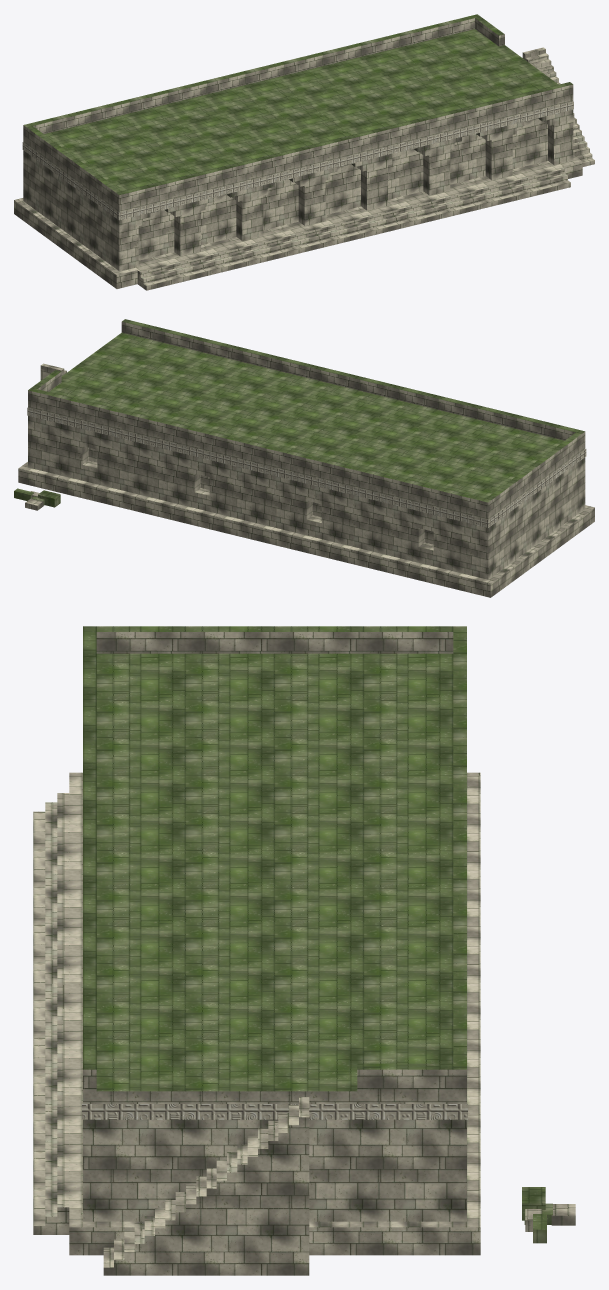
The model's file is ruin-arcade-b.ruins-v1.lod1.glb.
3 views of the same model, one above another, from view 1: azimuth 30°, elevation 25°; view 2: azimuth 150°, elevation 25°; view 3: azimuth 270°, elevation 25° (orthographic). The views are drawn at different scales.
Parts seen in each view (by area): view 1: ruin-arcade-b; view 2: ruin-arcade-b; view 3: ruin-arcade-b.
Part boxes in pixels (<box>): ruin-arcade-b: <box>14,14,594,290</box>; ruin-arcade-b: <box>14,319,594,597</box>; ruin-arcade-b: <box>33,626,575,1275</box>.
Bounding box in the file's own units: 32.8 × 5.8 × 15.82.
3 materials, 3 textured.
